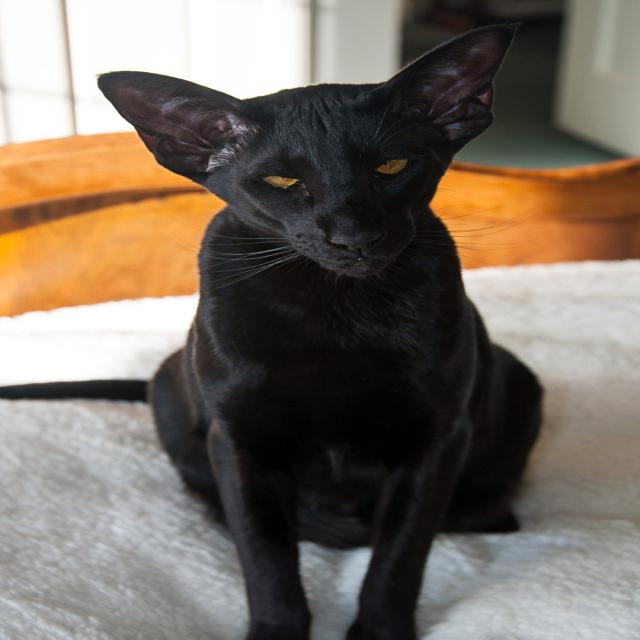Oriental: (0, 19, 560, 640)
